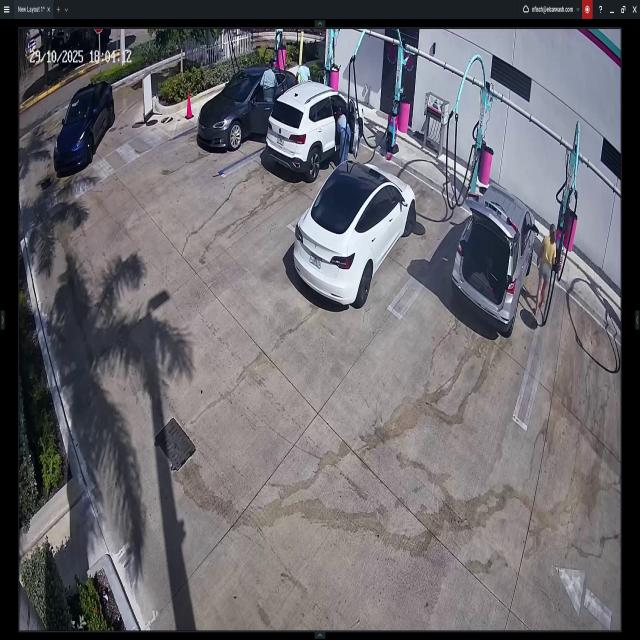Car: (296, 167, 414, 313), (448, 186, 538, 328), (196, 65, 300, 152), (270, 83, 360, 180), (53, 80, 113, 170)
